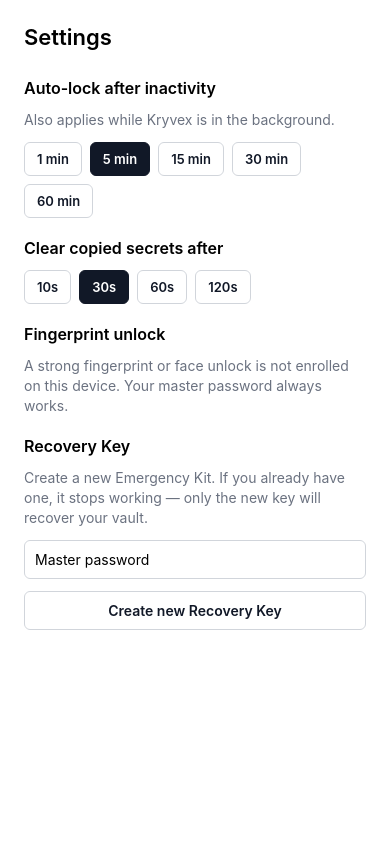
Test case: SettingsScreen › requires the master password before creating a Recovery Key
Click the text "Create new Recovery Key": (195, 610) [108,602,282,619]
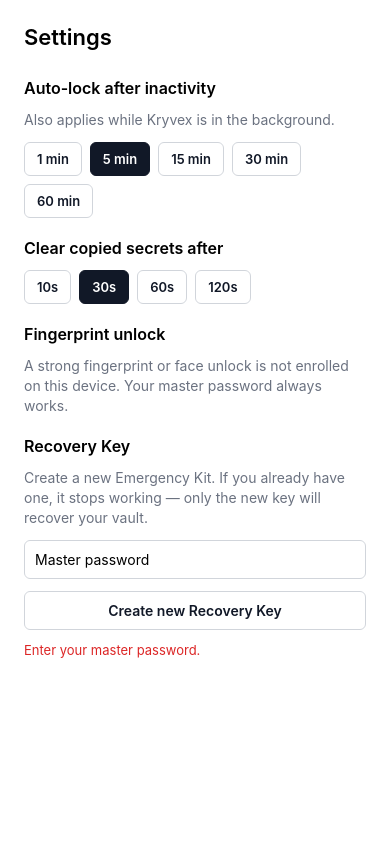
Check: the text "Enter your master password." is shown, box [24,642,200,658]
